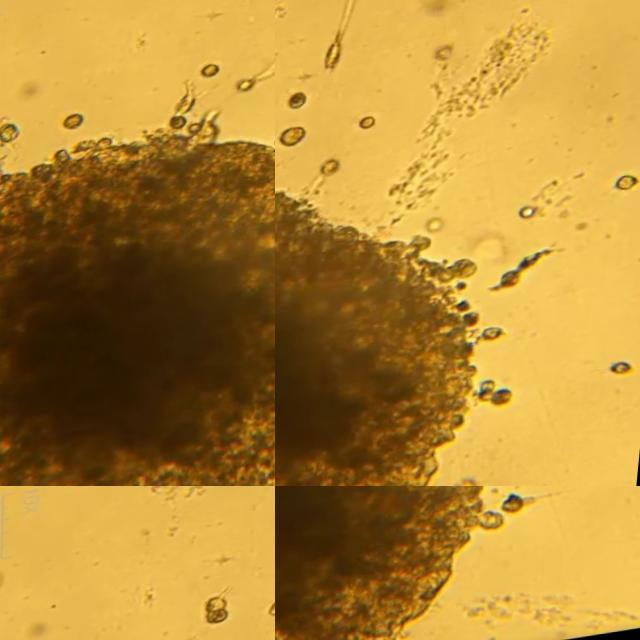cell: (512, 500, 546, 521), (328, 39, 344, 74), (501, 397, 527, 416), (499, 278, 524, 297), (526, 259, 549, 279), (285, 130, 309, 149), (66, 113, 89, 132), (201, 66, 225, 84), (3, 123, 23, 144), (320, 164, 343, 180), (209, 613, 231, 627), (291, 96, 310, 112), (243, 82, 261, 98), (622, 185, 640, 199), (621, 373, 640, 386), (527, 213, 543, 227), (363, 120, 378, 133), (488, 398, 503, 411), (214, 600, 229, 613), (488, 388, 504, 399)
tumor_mass: (0, 85, 275, 486), (275, 194, 511, 486), (275, 486, 513, 640)
